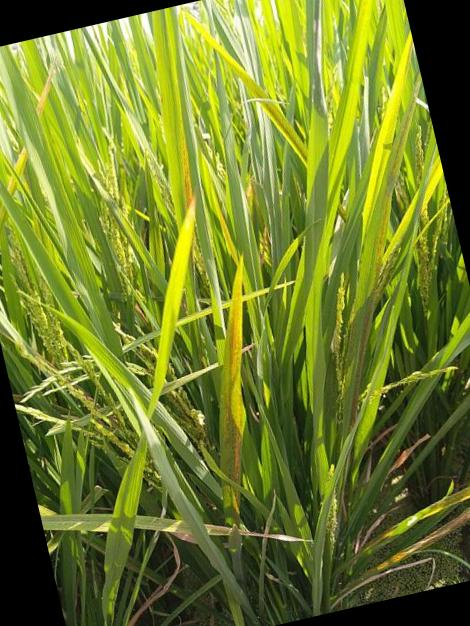Leaf Streak: (349, 105, 412, 427), (220, 254, 244, 486), (222, 481, 241, 529), (183, 168, 195, 205)
